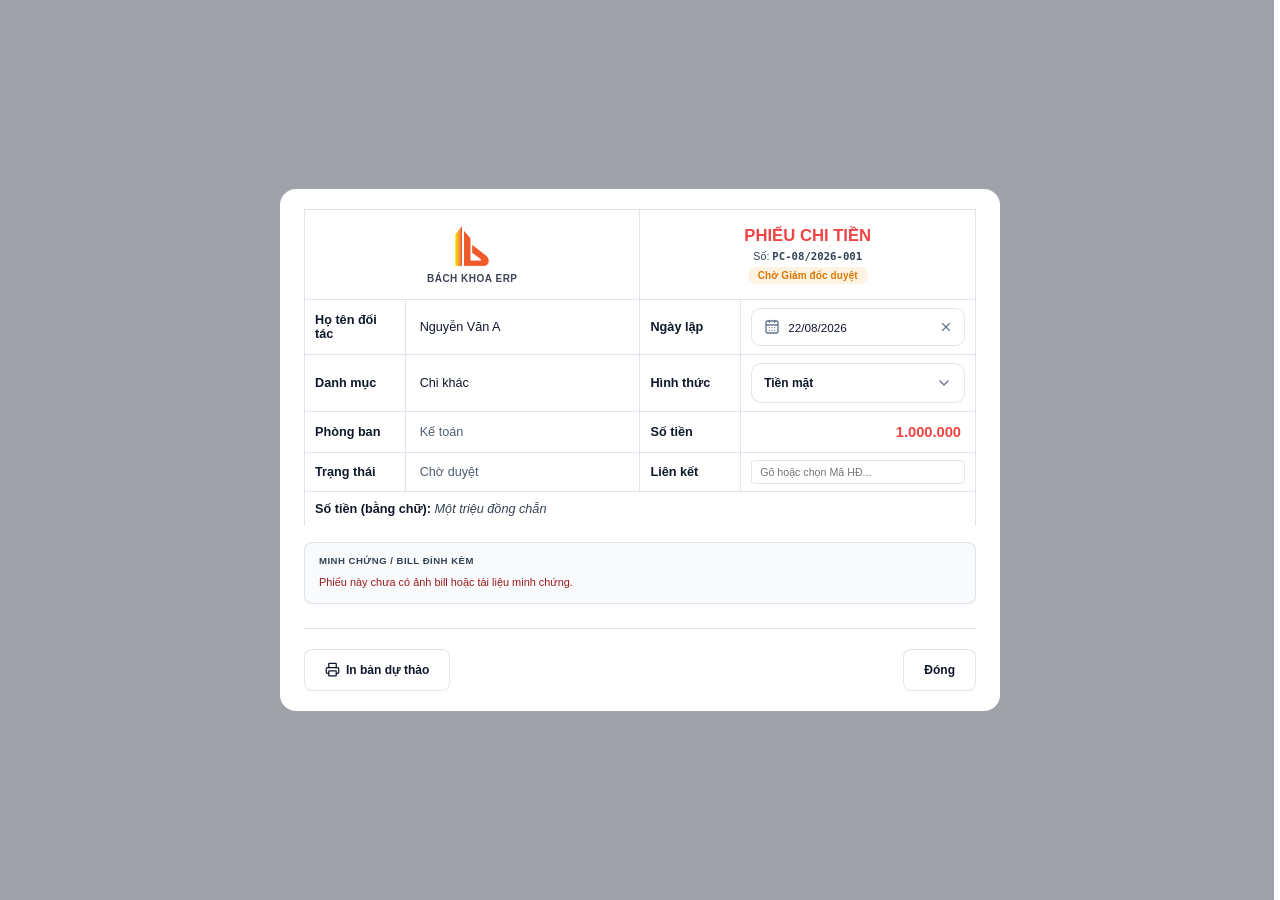
Test case: finance select migration phase 1 › uses the custom payment method control in the cashflow detail modal
Click the button "Tiền mặt" at (858, 383), box [751,363,965,403]
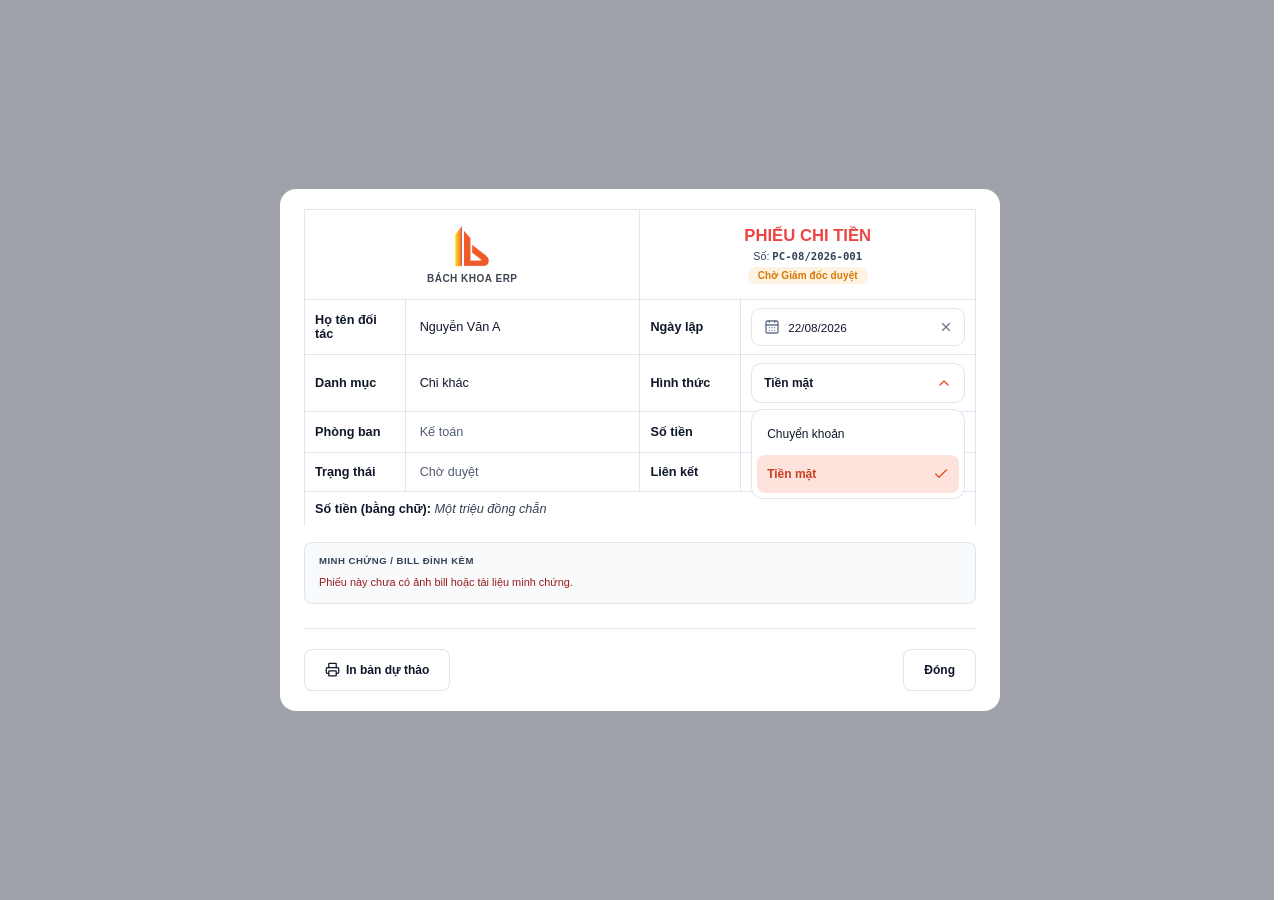
Click the option "Chuyển khoản" at (806, 434), box [767,427,844,441]
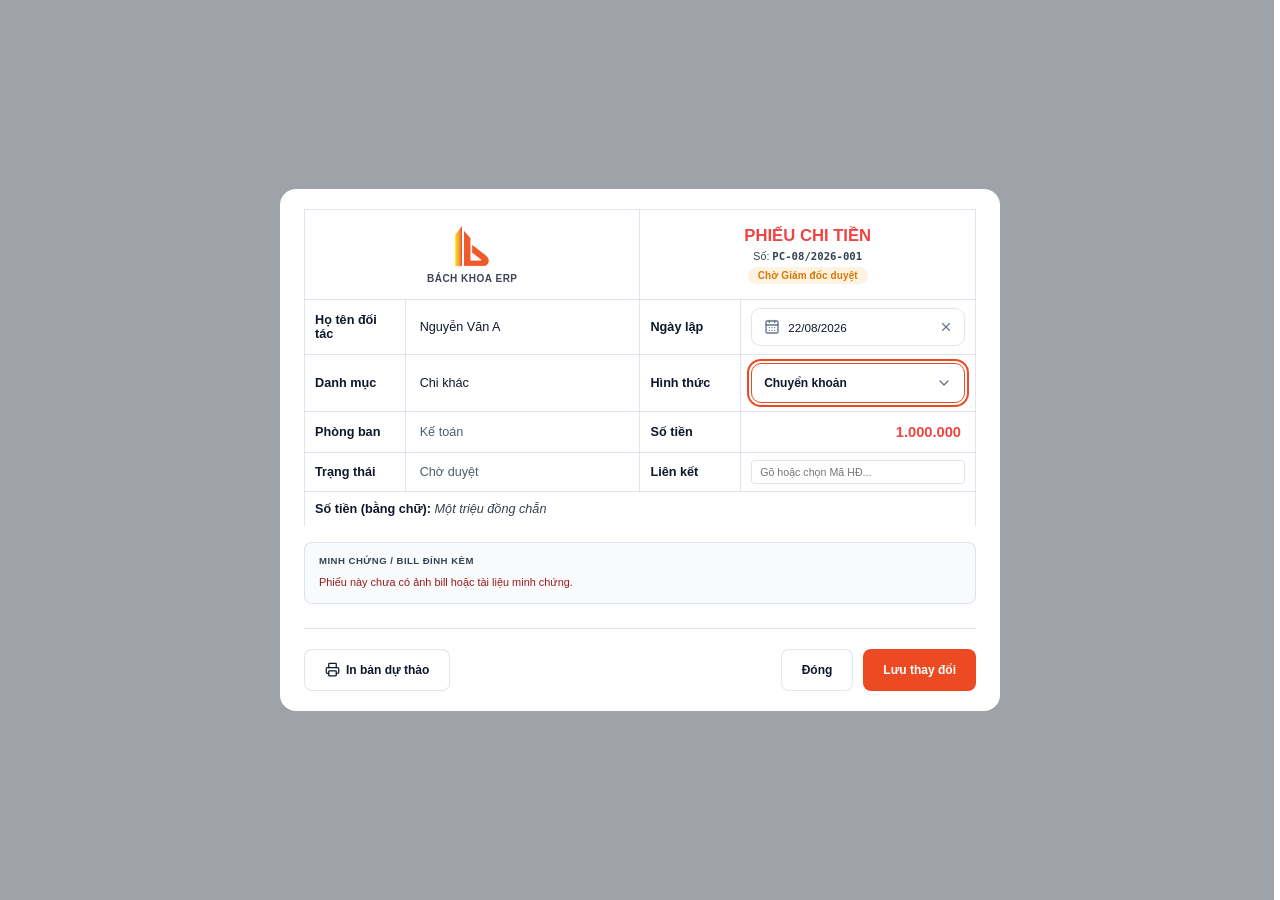
expect the button "Chuyển khoản" is shown: met, box [751,363,965,403]
